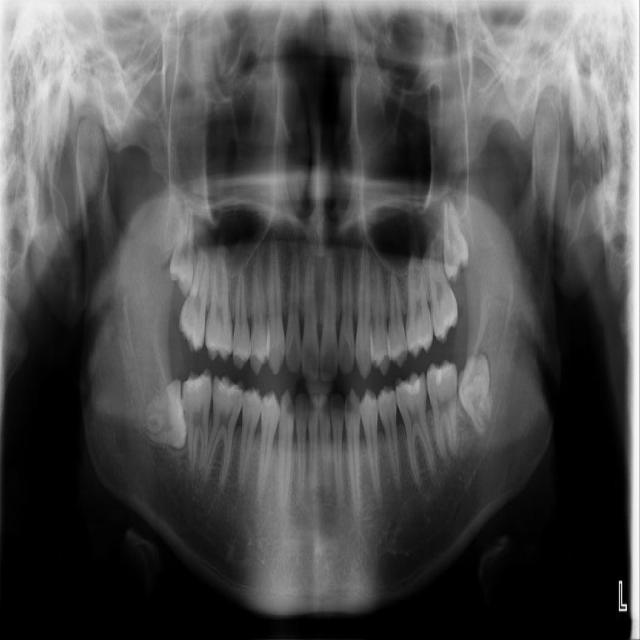3M ESPE Implant: (168, 205, 196, 299)
52: (202, 370, 251, 423), (390, 370, 435, 422), (420, 357, 465, 407), (179, 368, 214, 416)
73: (616, 596, 620, 599)
BioHorizons Implant: (423, 220, 461, 345)
BioLife Implant: (442, 196, 469, 286)
Biomet 3i Implant: (455, 354, 494, 434)
Blue Sky Bio Implant: (426, 359, 458, 464)
Caries: (176, 227, 216, 354)
Implant: (179, 366, 213, 471)
Keystone Dental Implant: (144, 379, 189, 449)
